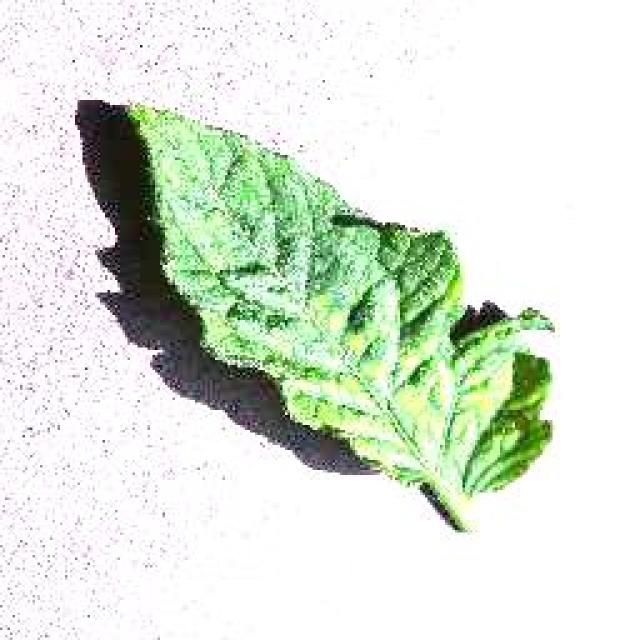Tomato___Tomato_mosaic_virus: (125, 105, 550, 528)
